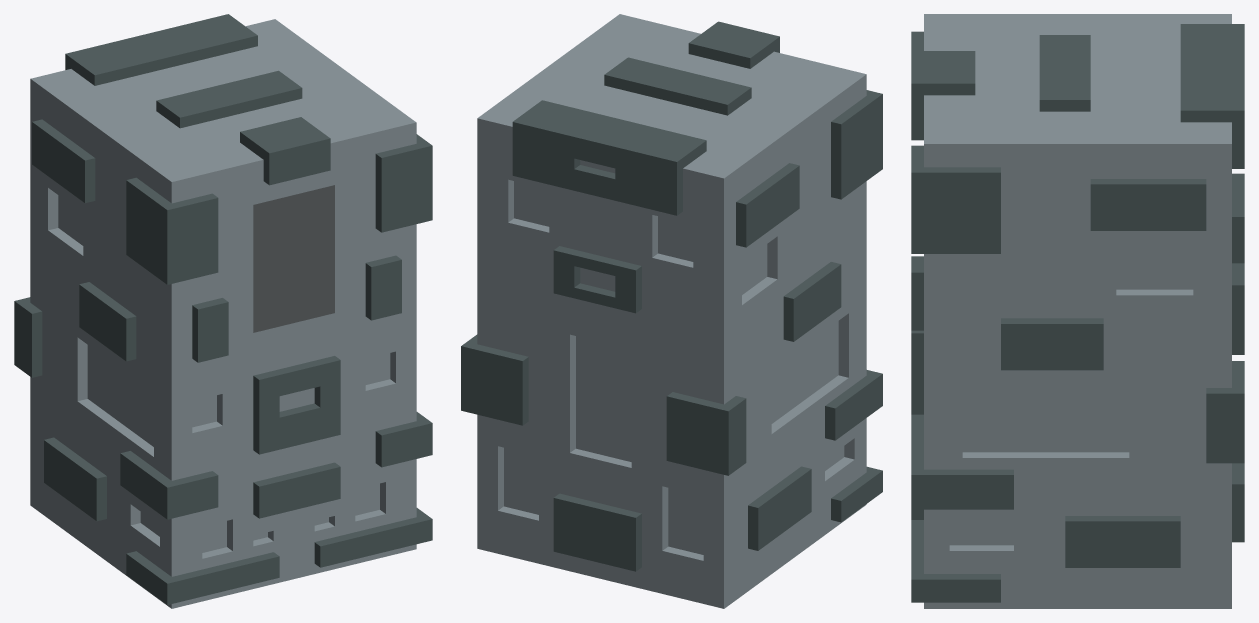
File: pedestal lever.obj
The picture shows the model from 3 angles, left to right: view 1: azimuth 30°, elevation 25°; view 2: azimuth 150°, elevation 25°; view 3: azimuth 270°, elevation 25°; orthographic projection. The views are drawn at different scales.
Bounding box in the file's own units: 2.6 × 4.1 × 2.6.
Materials: 1 (1 with a texture image).
